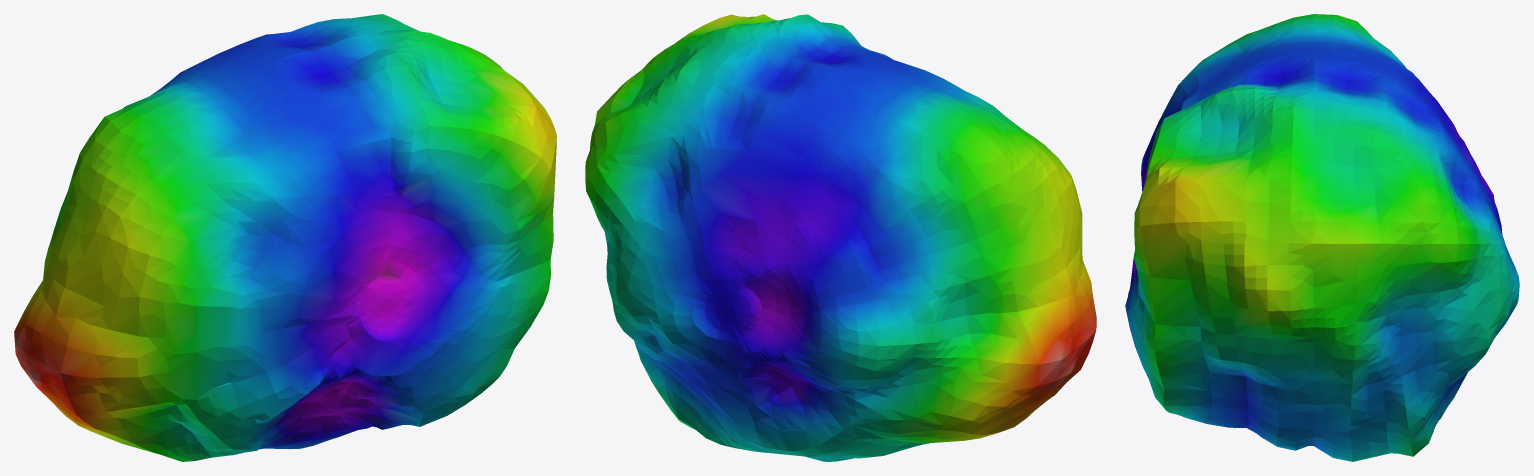
The model's file is Epimetheus-Mi.fbx.
3 renders of one model, left to right at view 1: azimuth 30°, elevation 25°; view 2: azimuth 150°, elevation 25°; view 3: azimuth 270°, elevation 25°, orthographic. The views are drawn at different scales.
Visible parts, largest first — view 1: Epimetheus-Mi; view 2: Epimetheus-Mi; view 3: Epimetheus-Mi.
Boxes of the visible parts, bbox=[...] form: Epimetheus-Mi: bbox=[14, 14, 556, 461]; Epimetheus-Mi: bbox=[585, 14, 1096, 461]; Epimetheus-Mi: bbox=[1125, 14, 1519, 461].
Size of the model in its own units: 10344 by 11186 by 14485.
